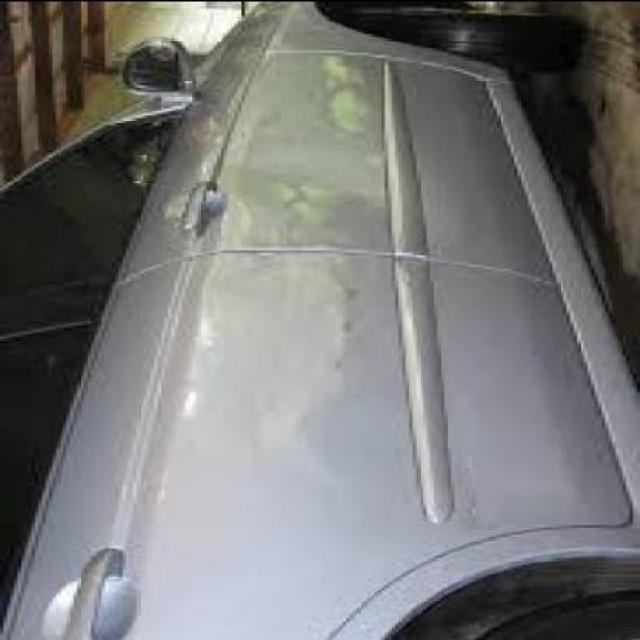damage: (229, 155, 463, 452)
